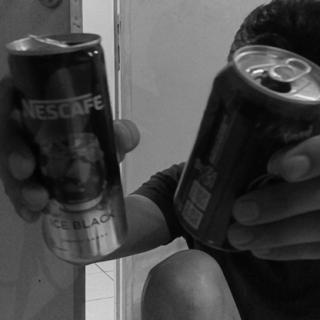alumunium_can: (174, 44, 320, 255), (6, 30, 132, 266)
